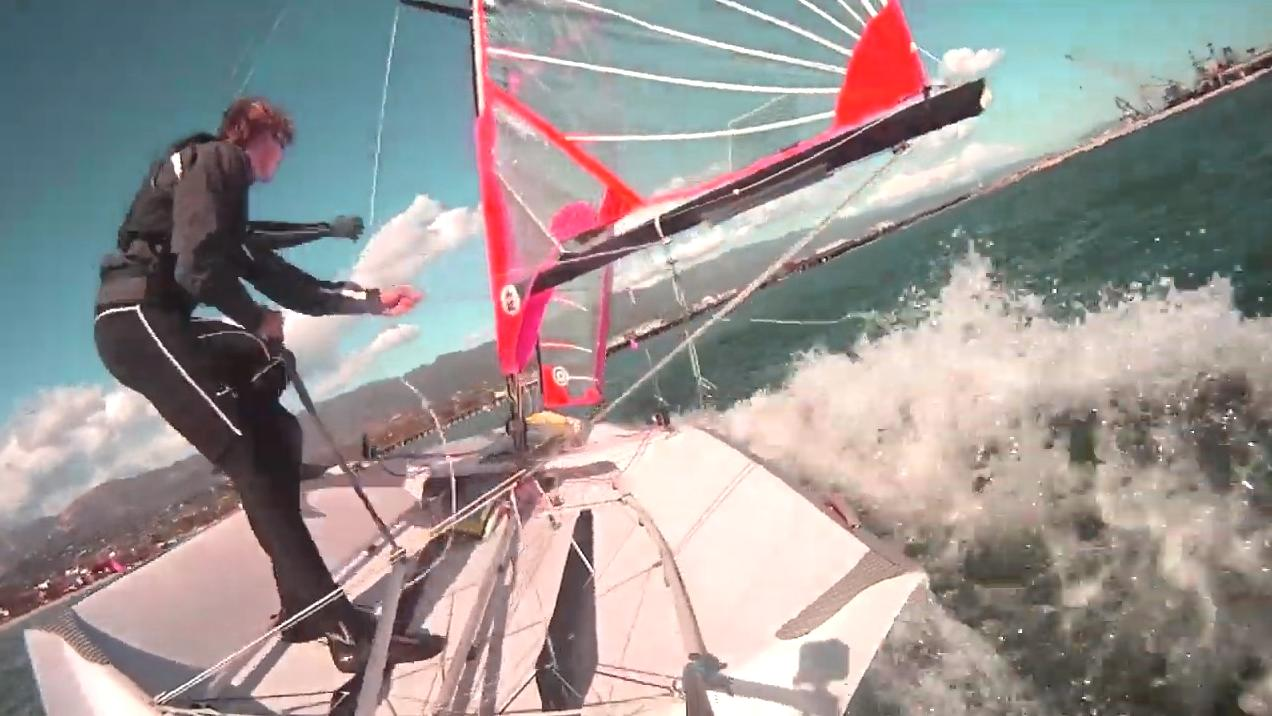land: (606, 53, 1272, 354), (0, 457, 243, 628), (301, 346, 507, 478)
person: (94, 100, 423, 618), (190, 216, 365, 362)
sea: (595, 56, 1272, 716), (0, 574, 123, 716), (384, 403, 511, 473)
sky: (0, 0, 493, 526), (610, 0, 1272, 291)
